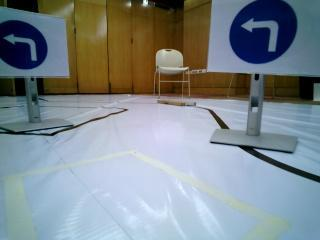left: (216, 1, 320, 73), (0, 17, 69, 73)
